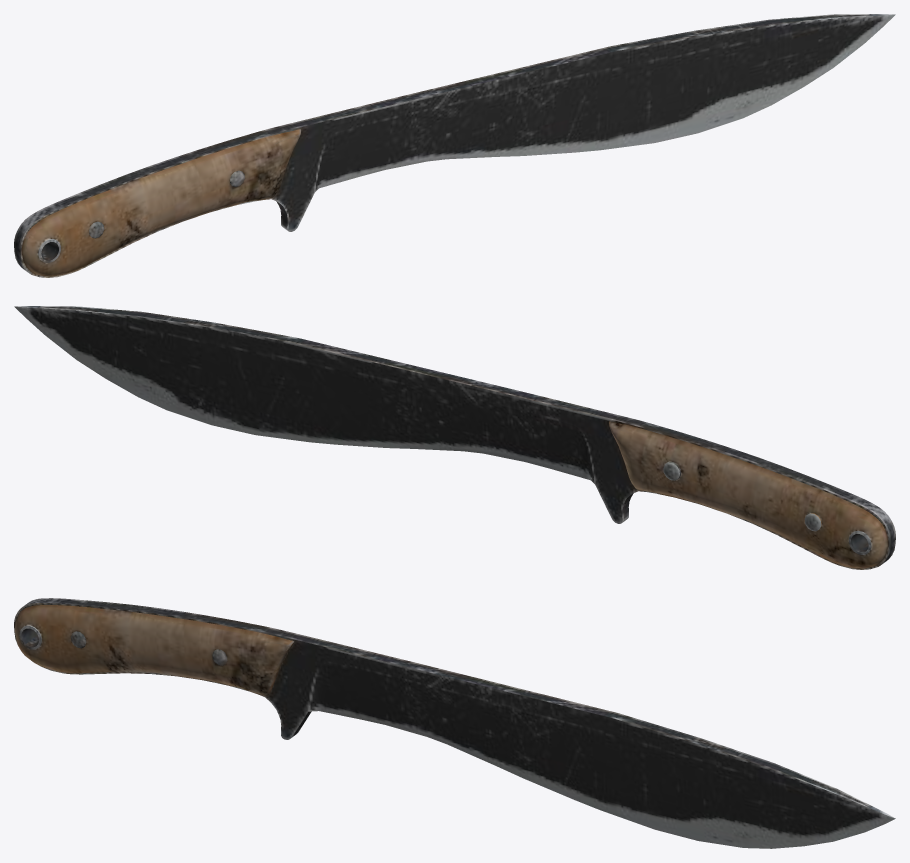
File: machete.glb
3 renders of one model, top to bottom at view 1: azimuth 30°, elevation 25°; view 2: azimuth 150°, elevation 25°; view 3: azimuth 330°, elevation 25°, orthographic.
Visible parts, largest first — view 1: machete; view 2: machete; view 3: machete.
Boxes of the visible parts, <box> form: machete: <box>14,14,895,277</box>; machete: <box>14,306,895,569</box>; machete: <box>14,598,895,848</box>.
Size of the model in its own units: 0.55 by 0.0635 by 0.0222.
Materials: 1 (1 with a texture image).
